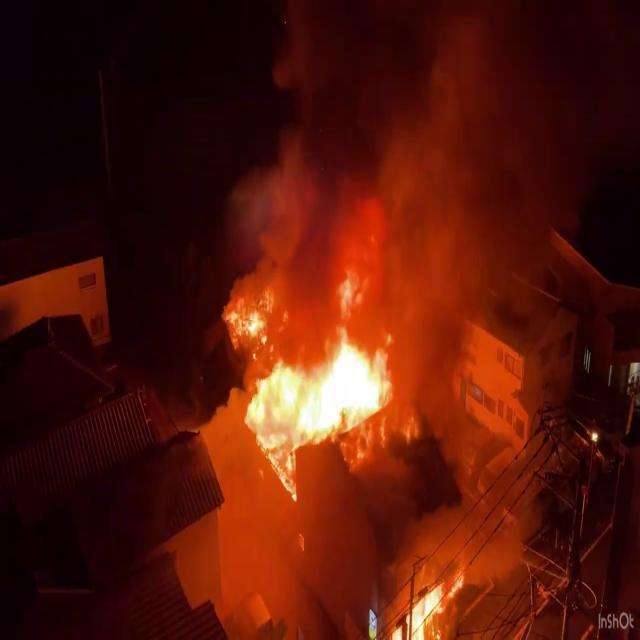Fire: (248, 312, 408, 494), (366, 560, 464, 640)
Smoke: (232, 0, 500, 340)
